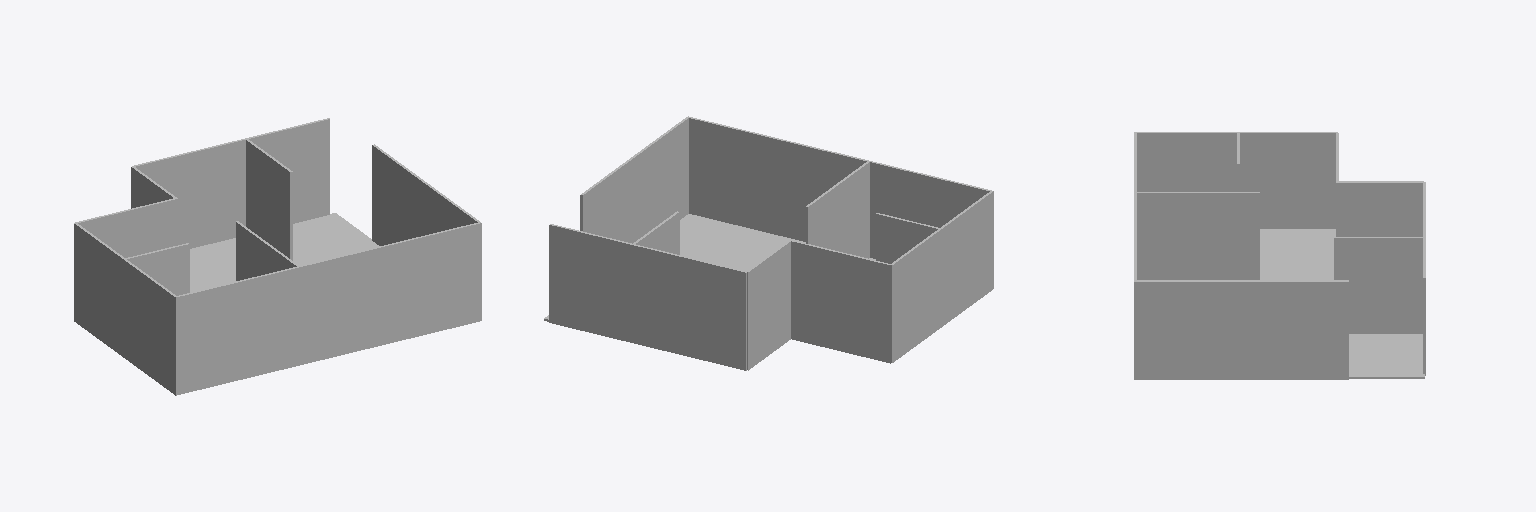
The model's file is gallery.obj.
3 views of the same model, side by side, from view 1: azimuth 30°, elevation 25°; view 2: azimuth 150°, elevation 25°; view 3: azimuth 270°, elevation 25° (orthographic).
Visible parts, largest first — view 1: Cube, Cube.006_Cube.007, Cube.001_Cube.002, Cube.008_Cube.009, Cube.010_Cube.011, Cube.007_Cube.008, Cube.003_Cube.004, Cube.004_Cube.005, Cube.002_Cube.003, Cube.005_Cube.006; view 2: Cube.006_Cube.007, Cube, Cube.001_Cube.002, Cube.003_Cube.004, Cube.008_Cube.009, Cube.005_Cube.006, Cube.004_Cube.005, Cube.009_Cube.010, Cube.002_Cube.003, Cube.007_Cube.008; view 3: Cube.008_Cube.009, Cube.001_Cube.002, Cube.004_Cube.005, Cube.007_Cube.008, Cube.005_Cube.006, Cube.009_Cube.010, Cube.010_Cube.011, Cube, Cube.006_Cube.007.
Boxes of the visible parts, box(x1,y1,x2,y2) form: Cube: box(176, 223, 481, 394); Cube.006_Cube.007: box(132, 118, 329, 248); Cube.001_Cube.002: box(74, 223, 177, 395); Cube.008_Cube.009: box(372, 144, 480, 245); Cube.010_Cube.011: box(190, 213, 379, 292); Cube.007_Cube.008: box(246, 139, 292, 260); Cube.003_Cube.004: box(75, 198, 175, 257); Cube.004_Cube.005: box(236, 221, 299, 280); Cube.002_Cube.003: box(124, 243, 189, 295); Cube.005_Cube.006: box(131, 166, 177, 245); Cube.006_Cube.007: box(549, 224, 746, 370); Cube: box(687, 116, 991, 258); Cube.001_Cube.002: box(891, 190, 993, 362); Cube.003_Cube.004: box(791, 240, 891, 363); Cube.008_Cube.009: box(580, 117, 688, 243); Cube.005_Cube.006: box(746, 240, 791, 370); Cube.004_Cube.005: box(806, 161, 869, 258); Cube.009_Cube.010: box(680, 214, 875, 270); Cube.002_Cube.003: box(876, 213, 938, 263); Cube.007_Cube.008: box(633, 211, 679, 254); Cube.008_Cube.009: box(1136, 280, 1348, 379); Cube.001_Cube.002: box(1137, 132, 1337, 228); Cube.004_Cube.005: box(1137, 192, 1259, 279); Cube.007_Cube.008: box(1334, 237, 1422, 333); Cube.005_Cube.006: box(1336, 181, 1423, 236); Cube.009_Cube.010: box(1260, 229, 1335, 279); Cube.010_Cube.011: box(1312, 278, 1424, 378); Cube: box(1134, 132, 1136, 379); Cube.006_Cube.007: box(1423, 182, 1425, 375).
Size of the model in its own units: 428 by 131 by 353.